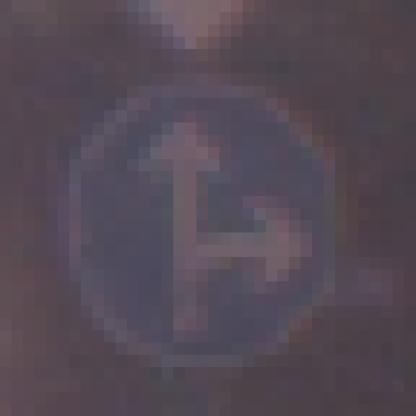Straight or Right: (59, 74, 348, 356)
